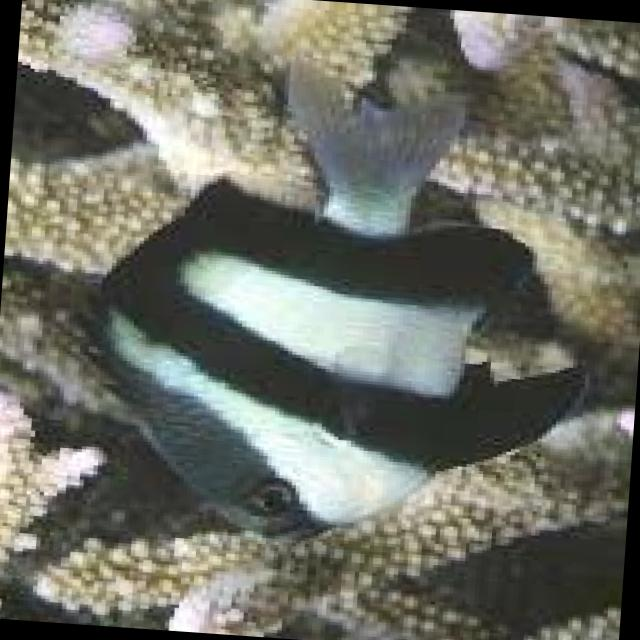ThreeStripedDamselfish: (62, 47, 600, 567)
